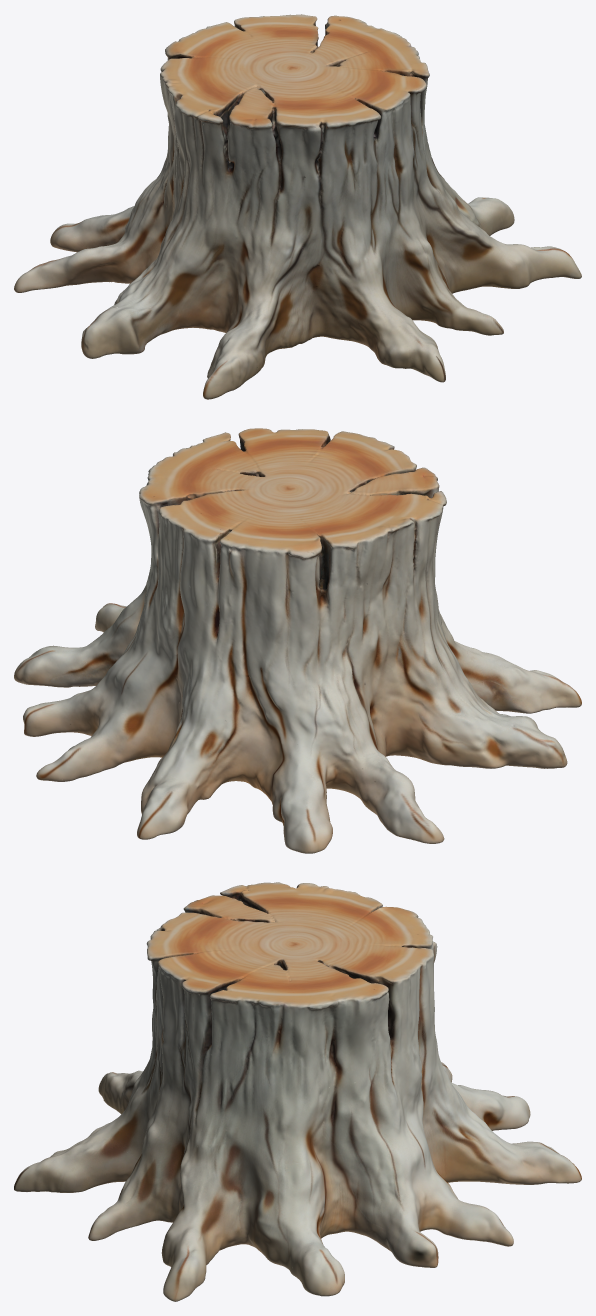
File: stump_grade_1.glb
3 views of the same model, one above another, from view 1: azimuth 30°, elevation 25°; view 2: azimuth 150°, elevation 25°; view 3: azimuth 270°, elevation 25° (orthographic). The views are drawn at different scales.
Bounding box in the file's own units: 2 × 0.9273 × 1.99.
Materials: 1 (1 with a texture image).
